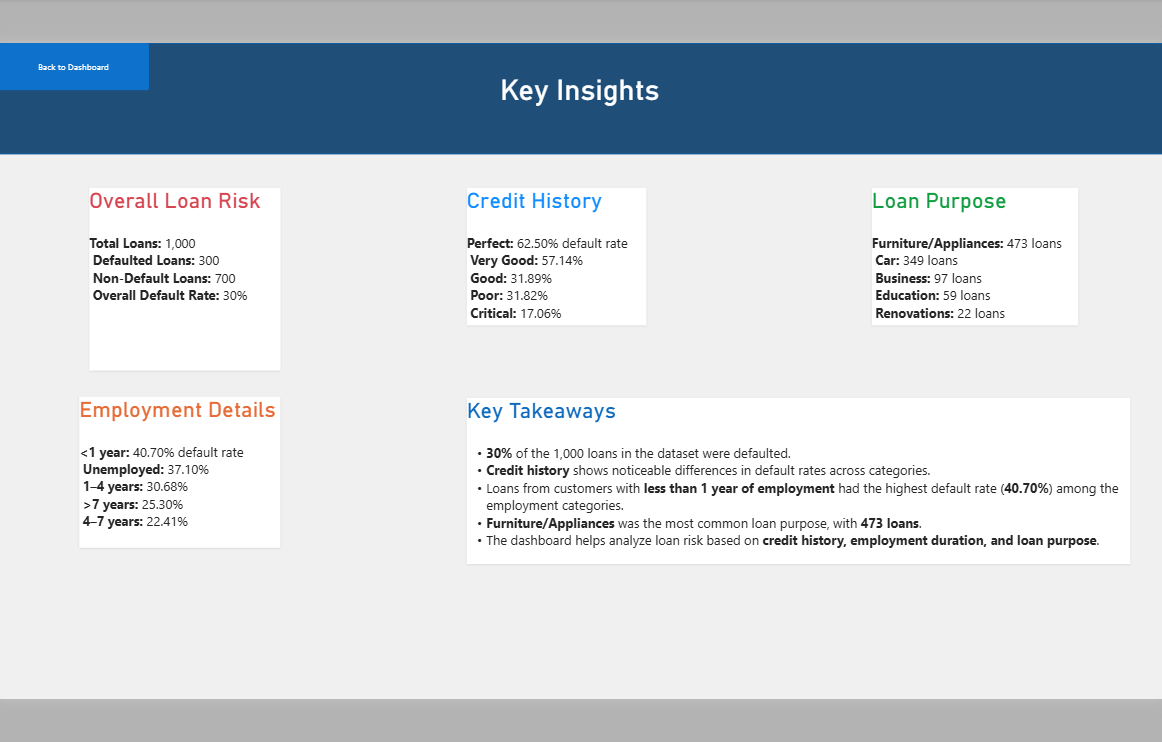

Layout of this report page (visuals, bound fields, positions):
{"tool":"powerbi","page":{"name":"Key Insights","canvas":[1920,1080],"ordinal":1},"visuals":[{"type":"shape","box":[0,0,1920.4,183.2],"z":0},{"type":"textbox","title":"Key Insights","box":[249.1,49.4,1418.2,94.7],"z":1000},{"type":"textbox","title":"Overall Loan Risk","box":[150.3,238.8,314.9,300.5],"z":2000},{"type":"textbox","title":"Credit History","box":[771.9,238.8,296.4,226.4],"z":3000},{"type":"textbox","title":"Employment Details","box":[133.8,582.5,331.4,249.1],"z":4000},{"type":"textbox","title":"Loan Purpose","box":[1438.8,238.8,339.6,226.4],"z":5000},{"type":"textbox","title":"Key Takeaways","box":[771.9,584.6,1093,273.8],"z":6000},{"type":"actionButton","box":[0,0,249.1,78.2],"z":7000}]}

Visuals, with their boxes on the page's 1920x1080 design canvas (x1, y1, x2, y2). These are canvas units, not pixel positions in the 1162x742 screenshot, which may show the page scaled, cropped or inside an application window:
shape: bbox=[0, 0, 1920, 183]
"Key Insights" textbox: bbox=[249, 49, 1667, 144]
"Overall Loan Risk" textbox: bbox=[150, 239, 465, 539]
"Credit History" textbox: bbox=[772, 239, 1068, 465]
"Employment Details" textbox: bbox=[134, 582, 465, 832]
"Loan Purpose" textbox: bbox=[1439, 239, 1778, 465]
"Key Takeaways" textbox: bbox=[772, 585, 1865, 858]
actionButton: bbox=[0, 0, 249, 78]
